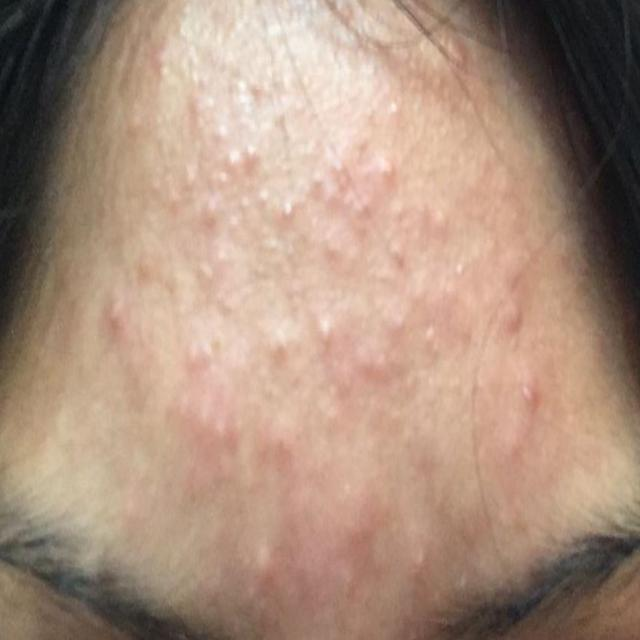fungal: (103, 37, 546, 467), (232, 482, 424, 626)
